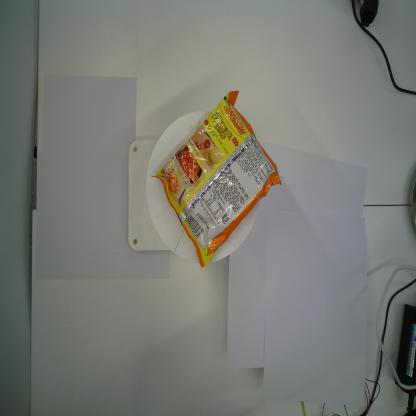Instant Noodles: (150, 89, 282, 271)
